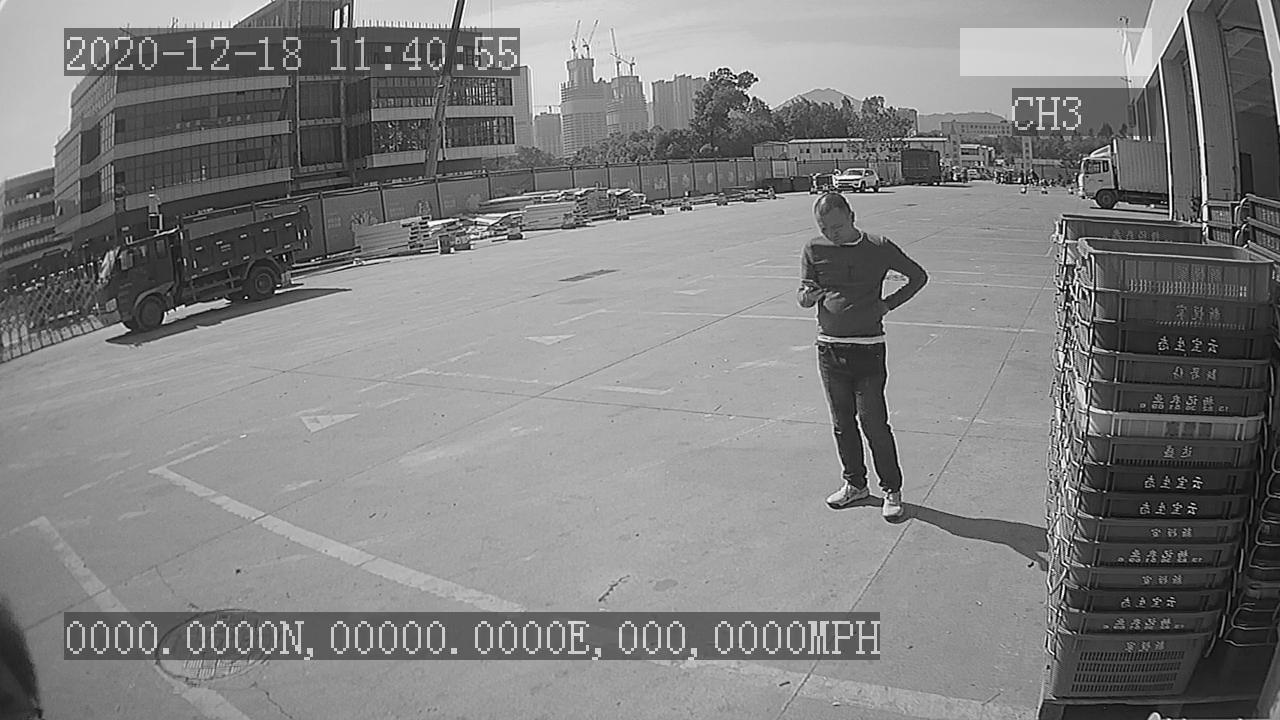person: (795, 190, 933, 521)
